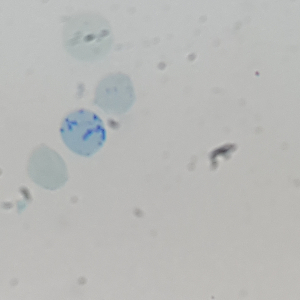aggregate reticulocyte: (58, 108, 107, 157)
erythrocyte: (60, 11, 113, 63), (25, 143, 69, 191)
punctate reticulocyte: (92, 72, 137, 116)
